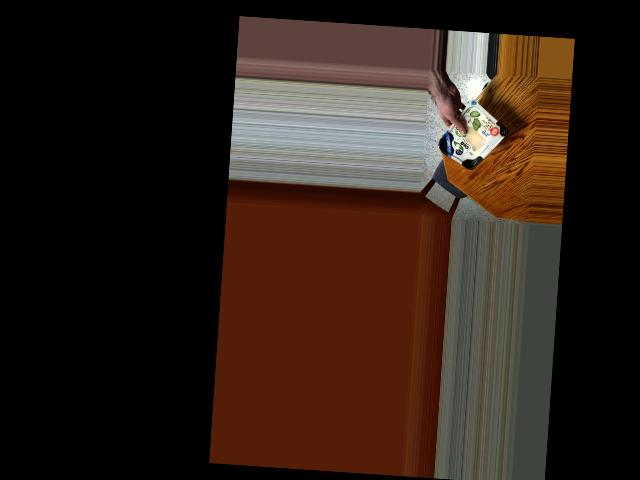cheese: (435, 108, 504, 171)
